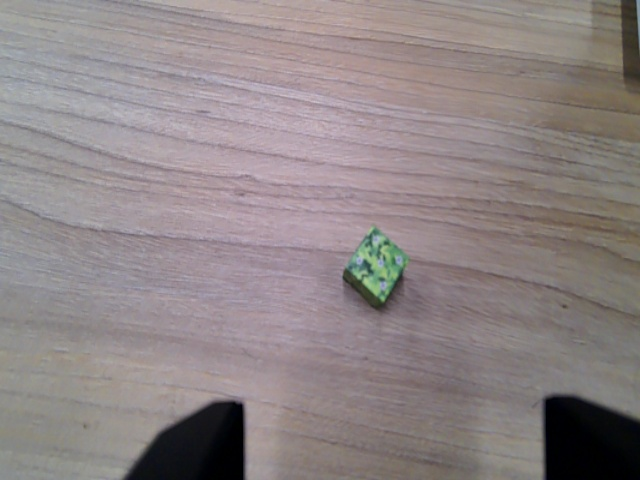grass: (342, 223, 411, 309)
